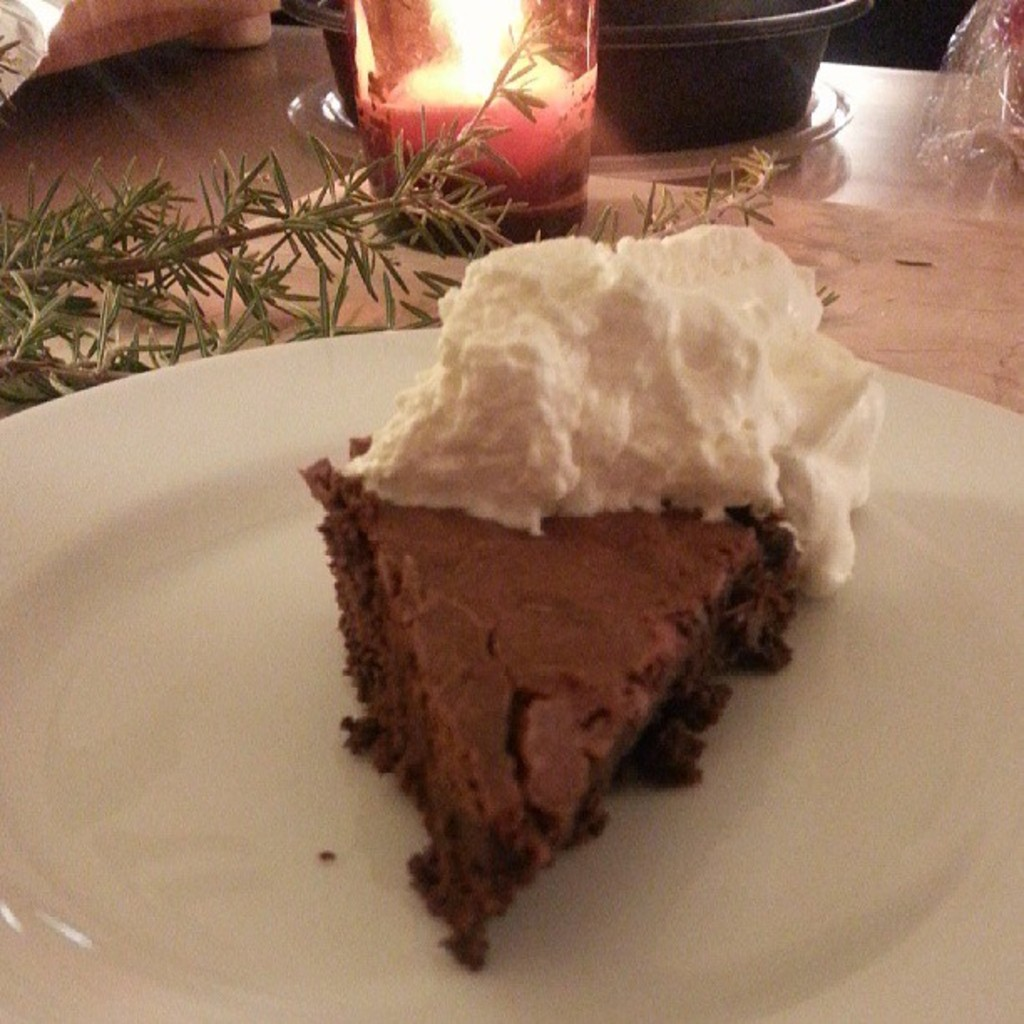cake: (296, 427, 812, 972)
